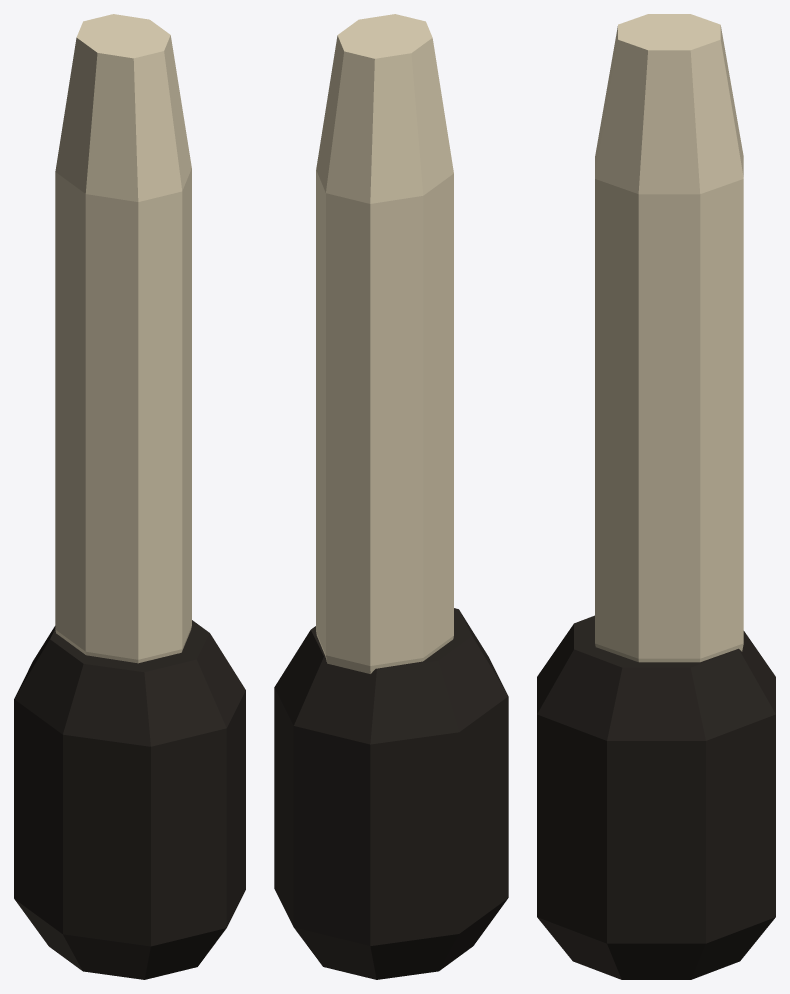
File: cow-spotted-tail.obj
3 renders of one model, left to right at view 1: azimuth 30°, elevation 25°; view 2: azimuth 150°, elevation 25°; view 3: azimuth 270°, elevation 25°, orthographic.
Visible parts, largest first — view 1: cow-spotted-tail; view 2: cow-spotted-tail; view 3: cow-spotted-tail.
Part boxes in pixels (left/top/right/bottom): cow-spotted-tail: left=14, top=14, right=245, bottom=979; cow-spotted-tail: left=274, top=14, right=508, bottom=979; cow-spotted-tail: left=537, top=14, right=775, bottom=979.
Size of the model in its own units: 0.1497 by 0.705 by 0.1666.
